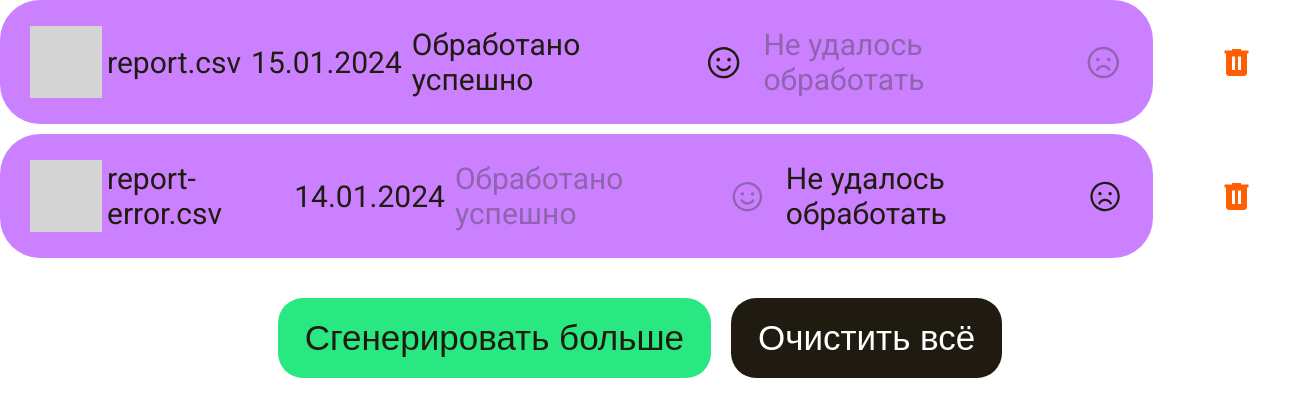
Test case: HistoryPage Integration Tests › Item Interactions › should remove history item on click
Expected: the text "report.csv" is shown, [107, 44, 241, 80]
Click the button with alt text "remove" in the row of "15.01.2024".
click(1236, 62)  # box [1193, 18, 1280, 106]
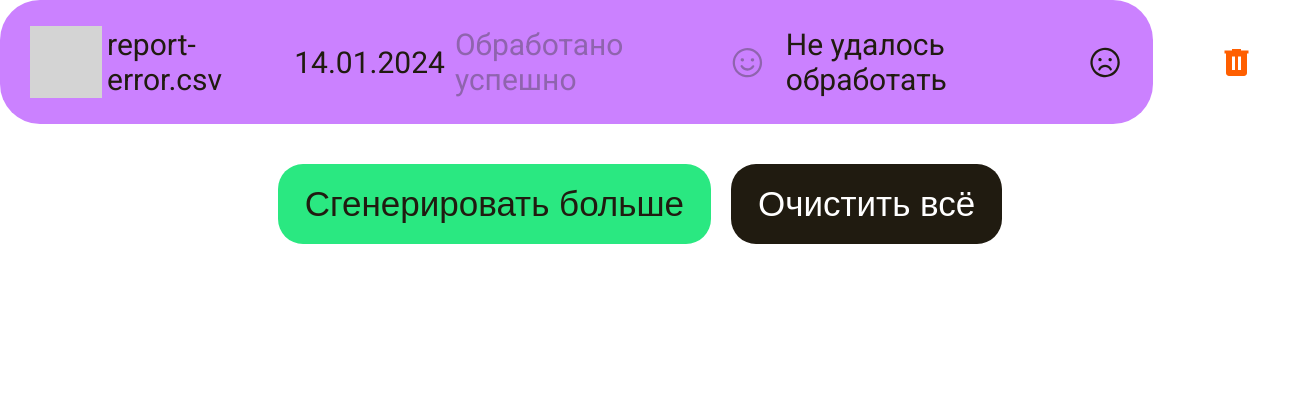
Now the text "report.csv" is gone
